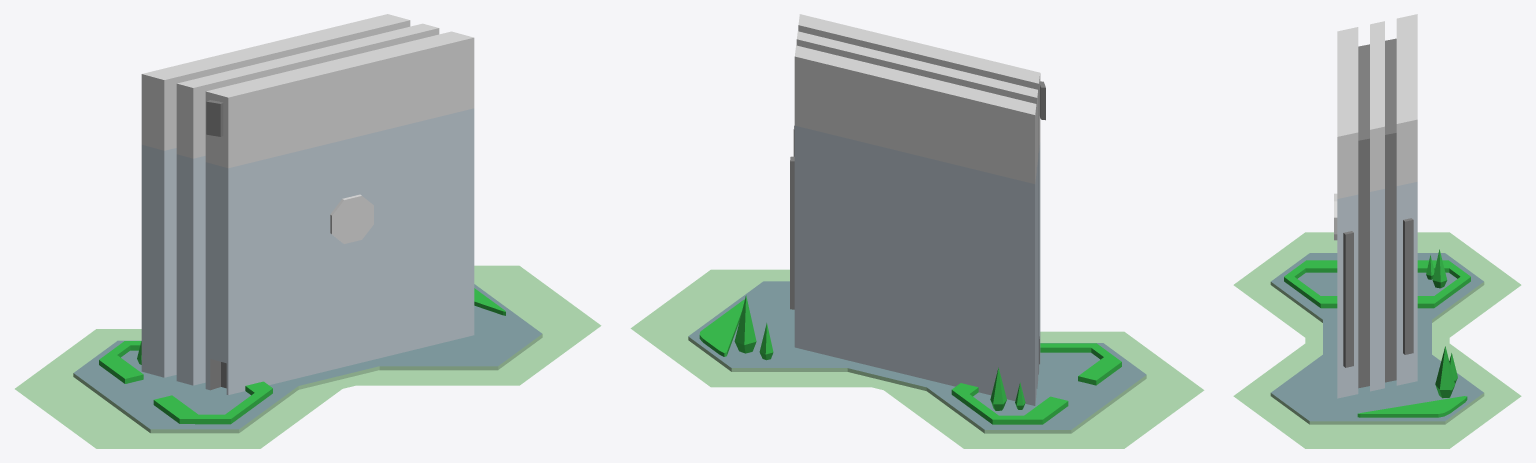
The model's file is Temp_Building8.fbx.
3 views of the same model, side by side, from view 1: azimuth 30°, elevation 25°; view 2: azimuth 150°, elevation 25°; view 3: azimuth 270°, elevation 25° (orthographic). The views are drawn at different scales.
Visible parts, largest first — view 1: Cube.001; view 2: Cube.001; view 3: Cube.001.
Boxes of the visible parts, x1,y1,x2,y2 form: Cube.001: (15, 14, 601, 448); Cube.001: (630, 14, 1204, 448); Cube.001: (1233, 14, 1521, 448).
Size of the model in its own units: 338 by 193 by 190.
